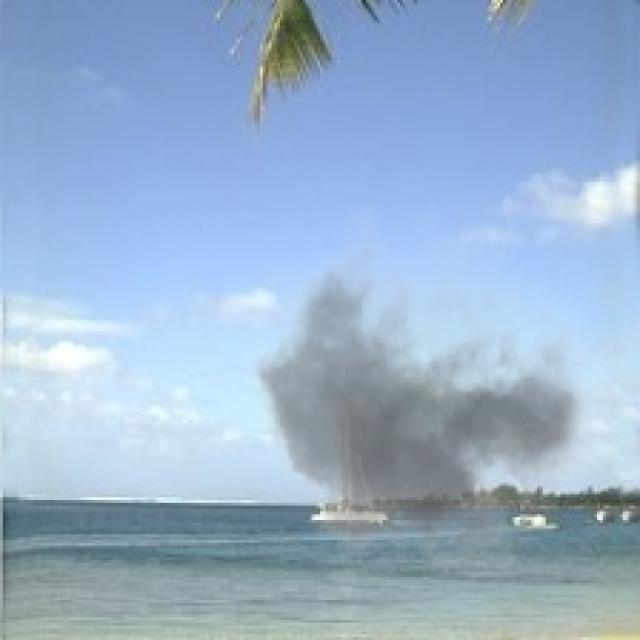smoke: (229, 200, 614, 591)
